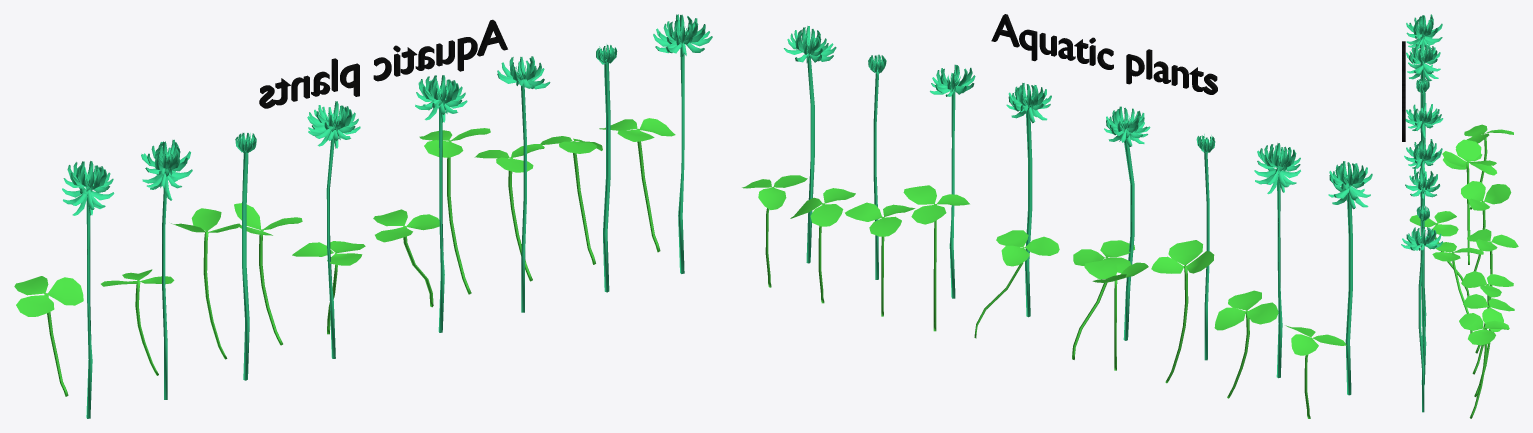
Rendered from Aquatic plants.gltf 5 gltf.gltf.
3 renders of one model, left to right at view 1: azimuth 30°, elevation 25°; view 2: azimuth 150°, elevation 25°; view 3: azimuth 270°, elevation 25°, orthographic. The views are drawn at different scales.
Visible parts, largest first — view 1: flower_A, clover_9, Text; view 2: clover_9, flower_A, Text; view 3: clover_9, flower_A, Text.
Boxes of the visible parts, bbox=[...] form: flower_A: bbox=[62, 14, 712, 418]; clover_9: bbox=[14, 118, 675, 396]; Text: bbox=[259, 19, 507, 108]; clover_9: bbox=[742, 175, 1346, 418]; flower_A: bbox=[784, 26, 1372, 395]; Text: bbox=[991, 14, 1217, 94]; clover_9: bbox=[1409, 124, 1518, 418]; flower_A: bbox=[1401, 14, 1443, 412]; Text: bbox=[1402, 41, 1405, 141].
Size of the model in its own units: 2.72 by 1.26 by 0.585.
